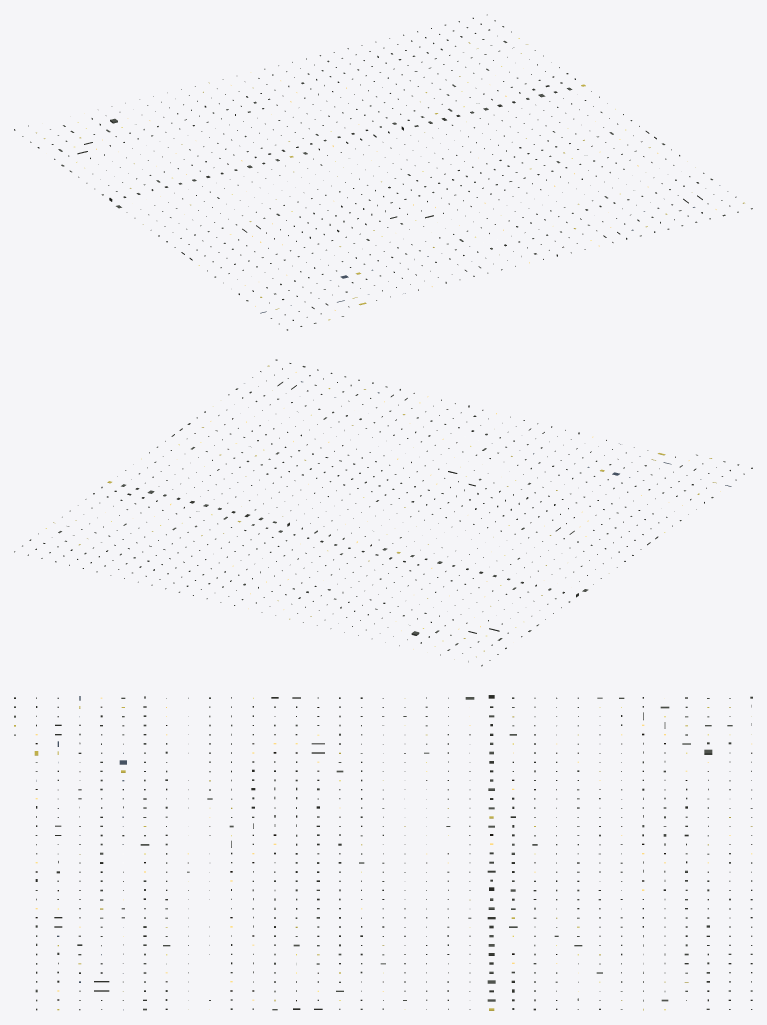
File: detail-kit-e5f7301d.glb
3 views of the same model, one above another, from view 1: azimuth 30°, elevation 25°; view 2: azimuth 150°, elevation 25°; view 3: azimuth 270°, elevation 25° (orthographic). The views are drawn at different scales.
Size of the model in its own units: 82.65 by 0.4286 by 82.05.
